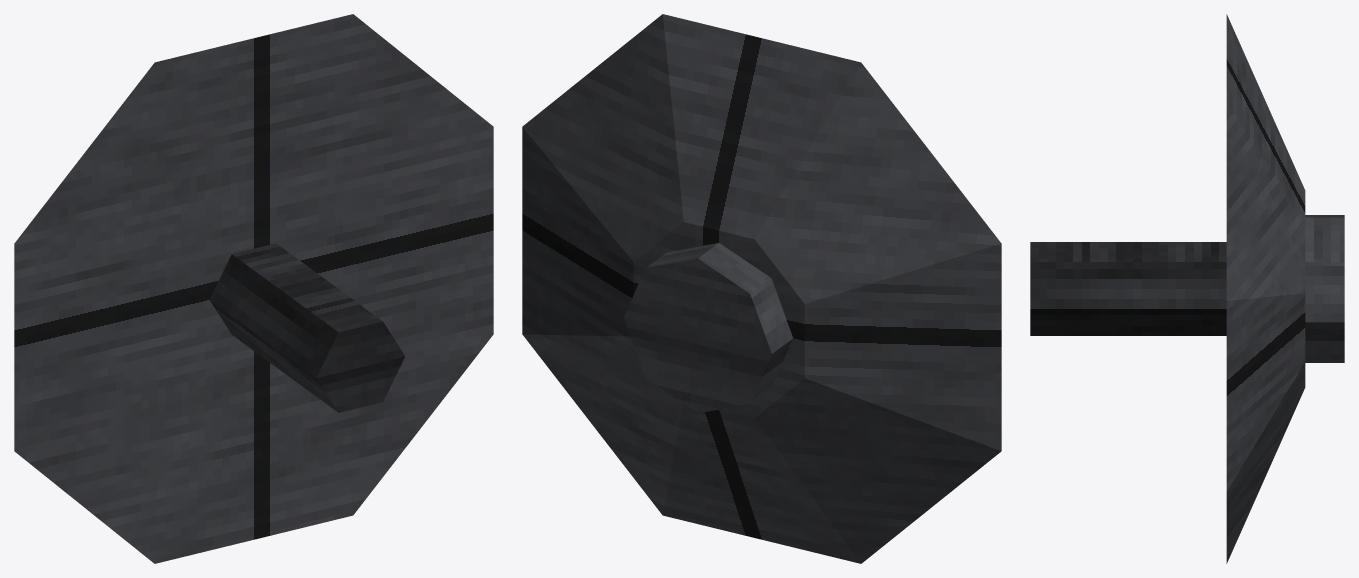
File: dish_arsenal.glb
3 renders of one model, left to right at view 1: azimuth 30°, elevation 25°; view 2: azimuth 150°, elevation 25°; view 3: azimuth 270°, elevation 25°, orthographic. The views are drawn at different scales.
Parts seen in each view (by area): view 1: dish, dish_mast; view 2: dish, dish_core; view 3: dish, dish_mast, dish_core.
Boxes of the visible parts, x1,y1,x2,y2 form: dish: [14, 14, 493, 563]; dish_mast: [209, 243, 405, 412]; dish: [522, 14, 1001, 563]; dish_core: [624, 243, 793, 413]; dish: [1226, 14, 1305, 563]; dish_mast: [1030, 242, 1226, 335]; dish_core: [1305, 215, 1344, 362].
Size of the model in its own units: 12.93 by 12.93 by 8.
3 materials, 3 textured.
